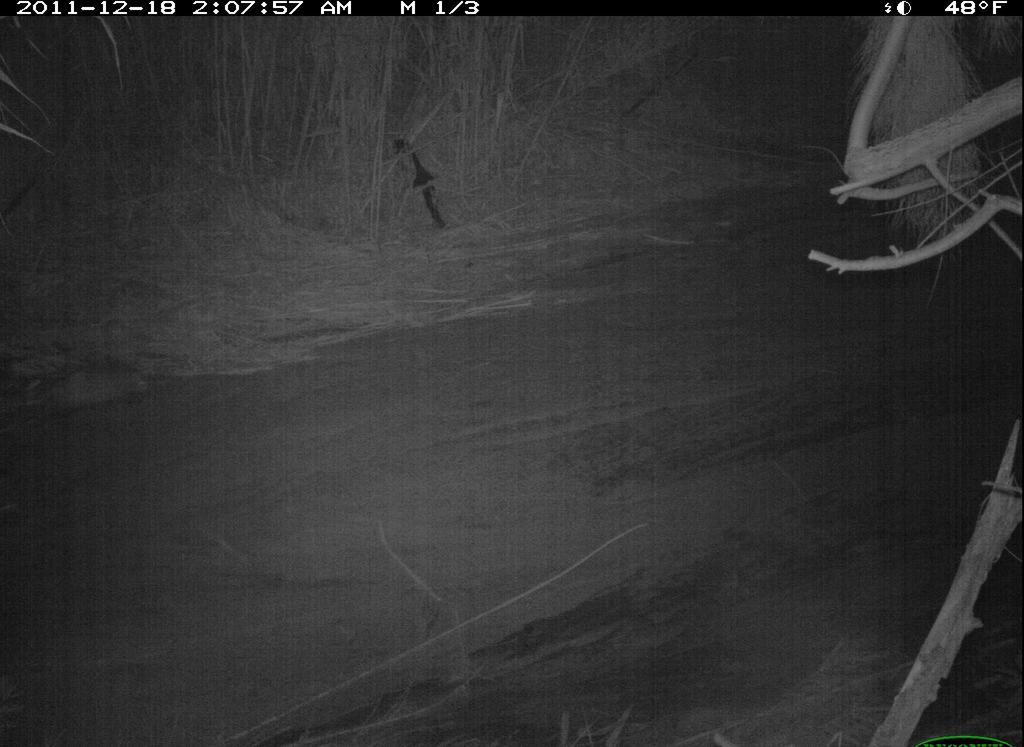opossum: (15, 354, 161, 427)
